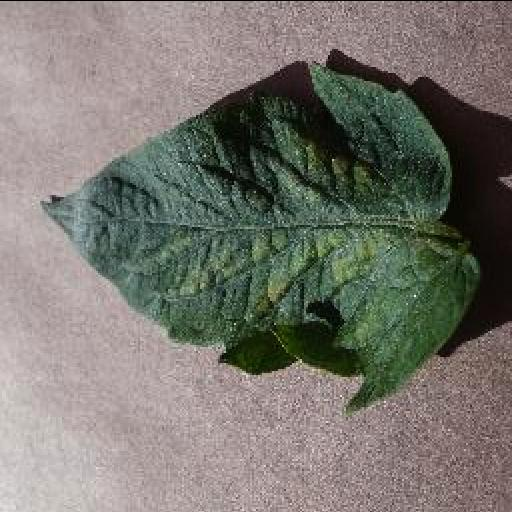disease_tomato: (41, 62, 479, 412)
